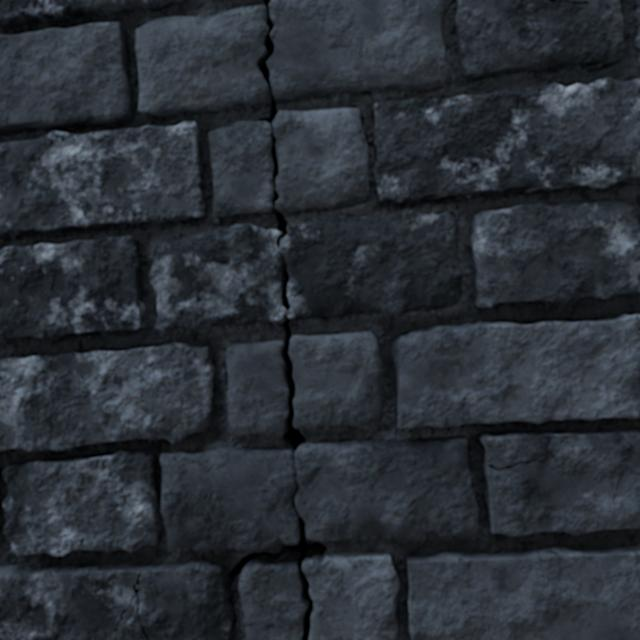broken_brick: (149, 209, 463, 331), (160, 436, 478, 550), (267, 0, 449, 100), (208, 108, 368, 218), (136, 5, 271, 116), (289, 331, 381, 428), (302, 552, 399, 639), (226, 338, 287, 435), (238, 558, 305, 639)
crack: (0, 498, 327, 639), (372, 78, 639, 203), (391, 314, 639, 429), (0, 121, 206, 237), (0, 342, 214, 451), (407, 544, 639, 639), (470, 199, 639, 307), (0, 449, 162, 556), (478, 430, 639, 536), (0, 22, 134, 135), (0, 236, 145, 340), (455, 0, 623, 79), (0, 0, 184, 29), (256, 0, 279, 206), (280, 318, 305, 455), (277, 253, 290, 311), (275, 209, 288, 248), (633, 0, 639, 60), (313, 83, 338, 86), (372, 78, 394, 80), (246, 622, 247, 634)
